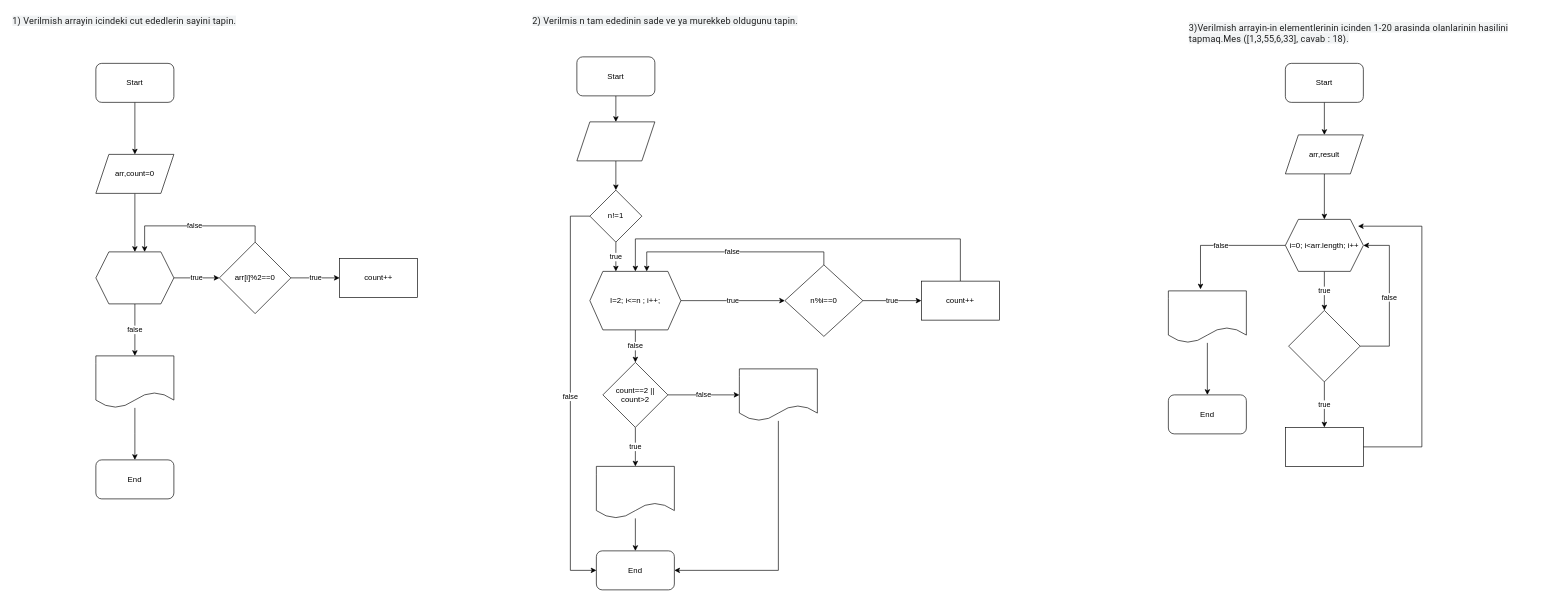
The diagram is 1563 pixels wide and 601 high, and some of its shapes have lost their labels. Here are the shapes that lost their labels. From the top down, the centre of each, then its label:
[615,141]: n,count=0
[134,277]: i=0; i<arr.length; i++;
[1207,316]: result
[1324,346]: arr[i]>1 && arr[i]<20
[134,381]: count
[778,394]: sade
[1324,446]: result*=arr[i]
[635,492]: murekkeb
